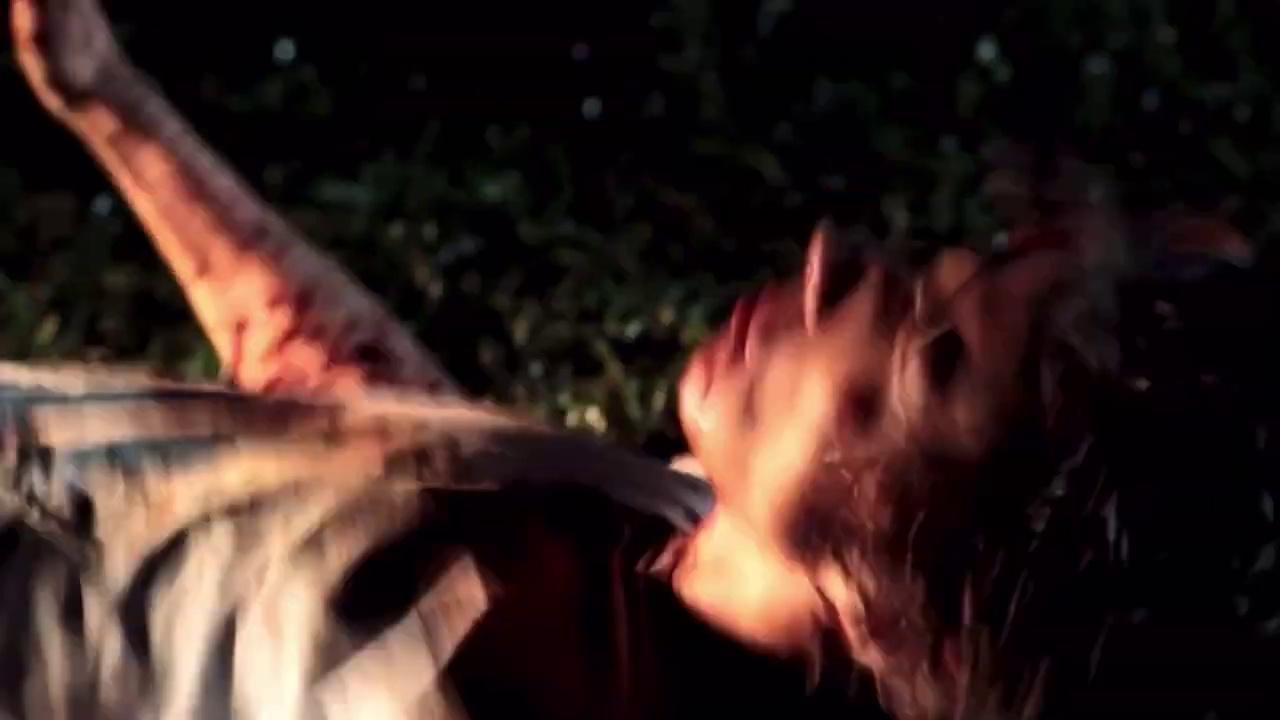Fire: (69, 62, 456, 393)
